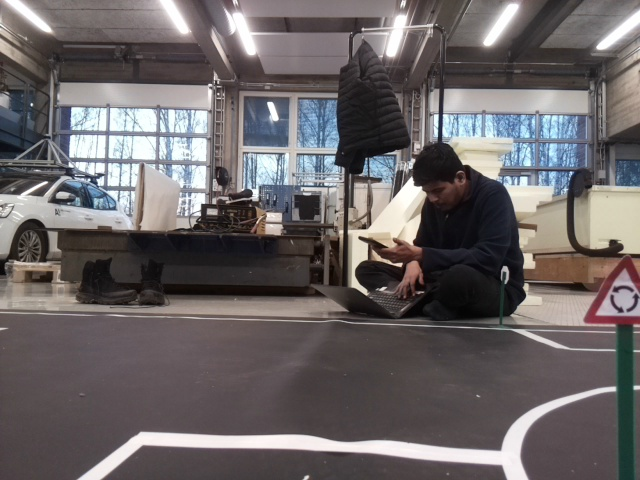Roundabout: (585, 252, 639, 324)
